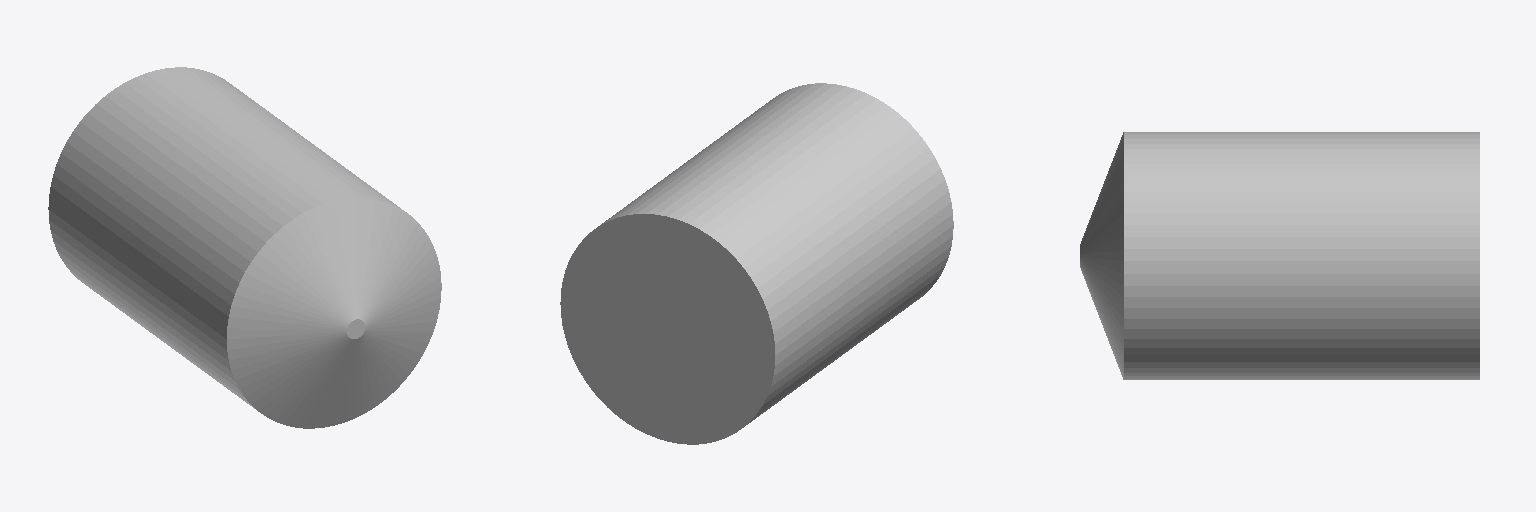
File: Candle4b.obj
3 renders of one model, left to right at view 1: azimuth 30°, elevation 25°; view 2: azimuth 150°, elevation 25°; view 3: azimuth 270°, elevation 25°, orthographic.
Visible parts, largest first — view 1: Candle4b_Cylinder.011; view 2: Candle4b_Cylinder.011; view 3: Candle4b_Cylinder.011.
Part boxes in pixels (bbox=[...]): Candle4b_Cylinder.011: bbox=[48, 67, 441, 428]; Candle4b_Cylinder.011: bbox=[560, 83, 953, 444]; Candle4b_Cylinder.011: bbox=[1080, 132, 1479, 379].
Size of the model in its own units: 0.1524 by 0.1524 by 0.2457.